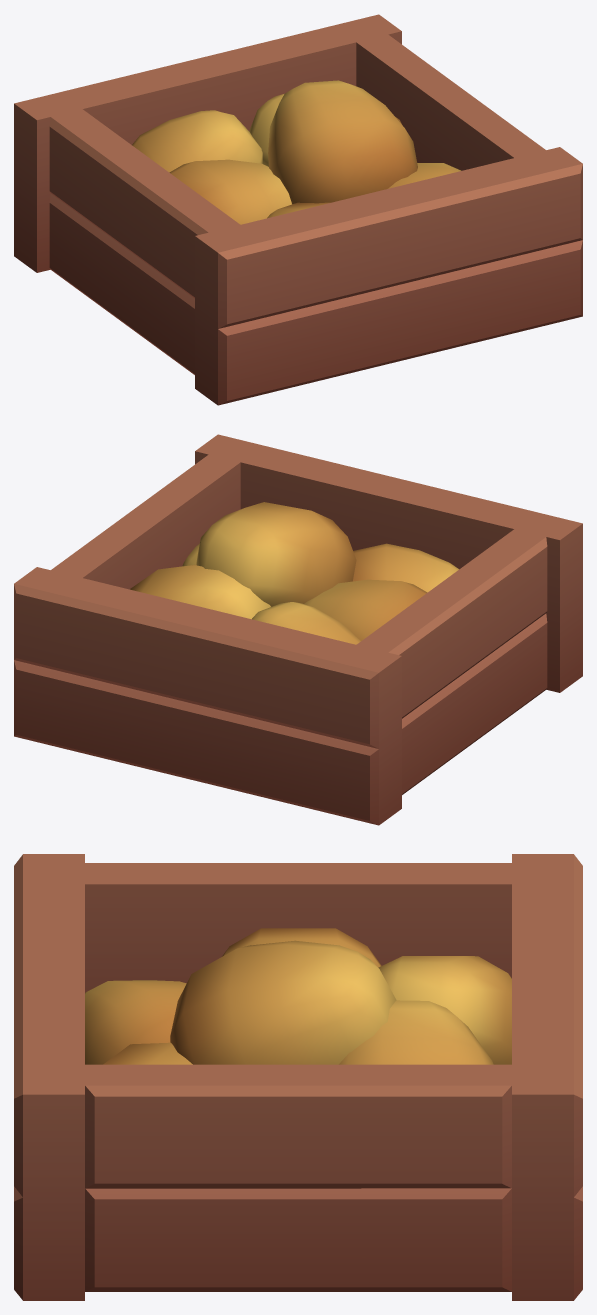
File: kay-crate_potatoes.glb
3 renders of one model, top to bottom at view 1: azimuth 30°, elevation 25°; view 2: azimuth 150°, elevation 25°; view 3: azimuth 270°, elevation 25°, orthographic. The views are drawn at different scales.
Parts seen in each view (by area): view 1: crate_potatoes; view 2: crate_potatoes; view 3: crate_potatoes.
Part boxes in pixels (bbox=[...]): crate_potatoes: bbox=[14, 14, 582, 405]; crate_potatoes: bbox=[14, 434, 582, 825]; crate_potatoes: bbox=[14, 854, 582, 1300].
Size of the model in its own units: 0.6 by 0.2897 by 0.6.
1 material, 1 textured.
